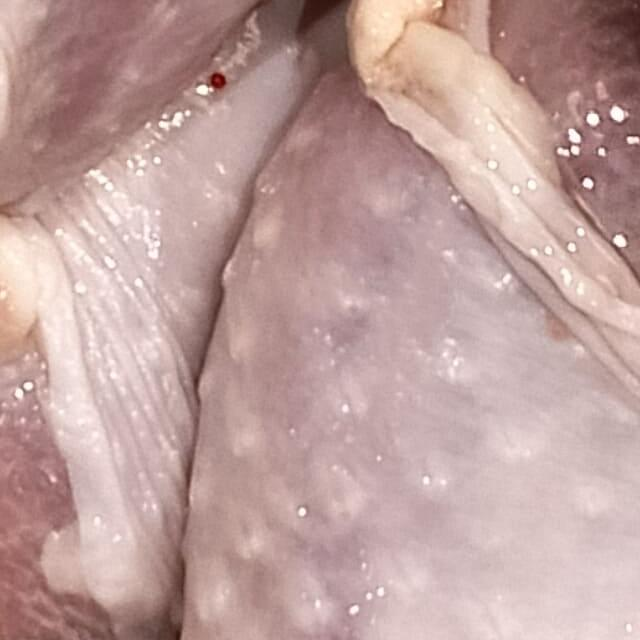chicken: (67, 0, 640, 321)
